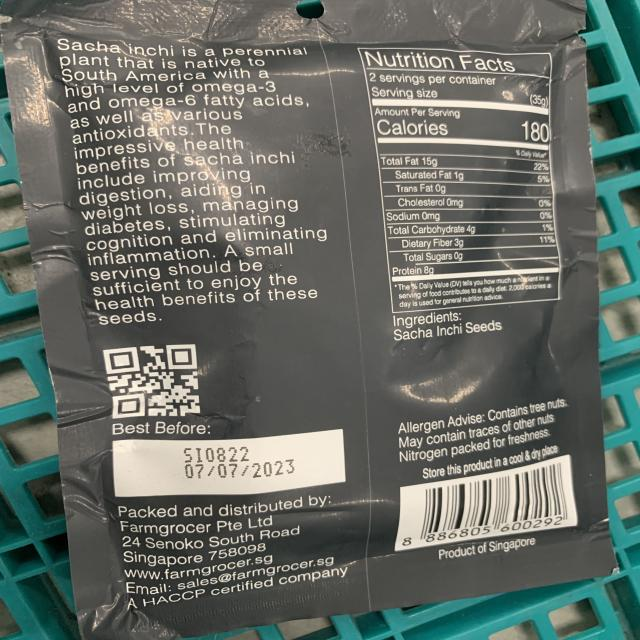object_name: (17, 2, 611, 582)
